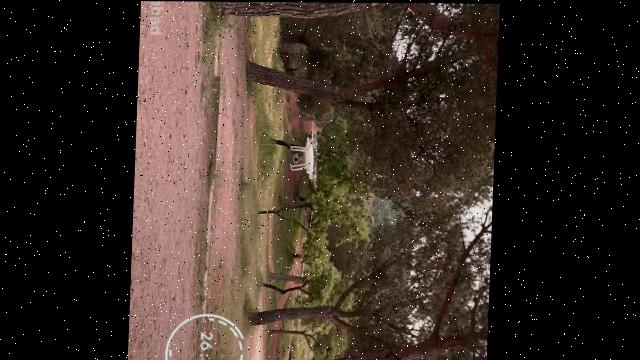drone: (288, 128, 322, 191)
